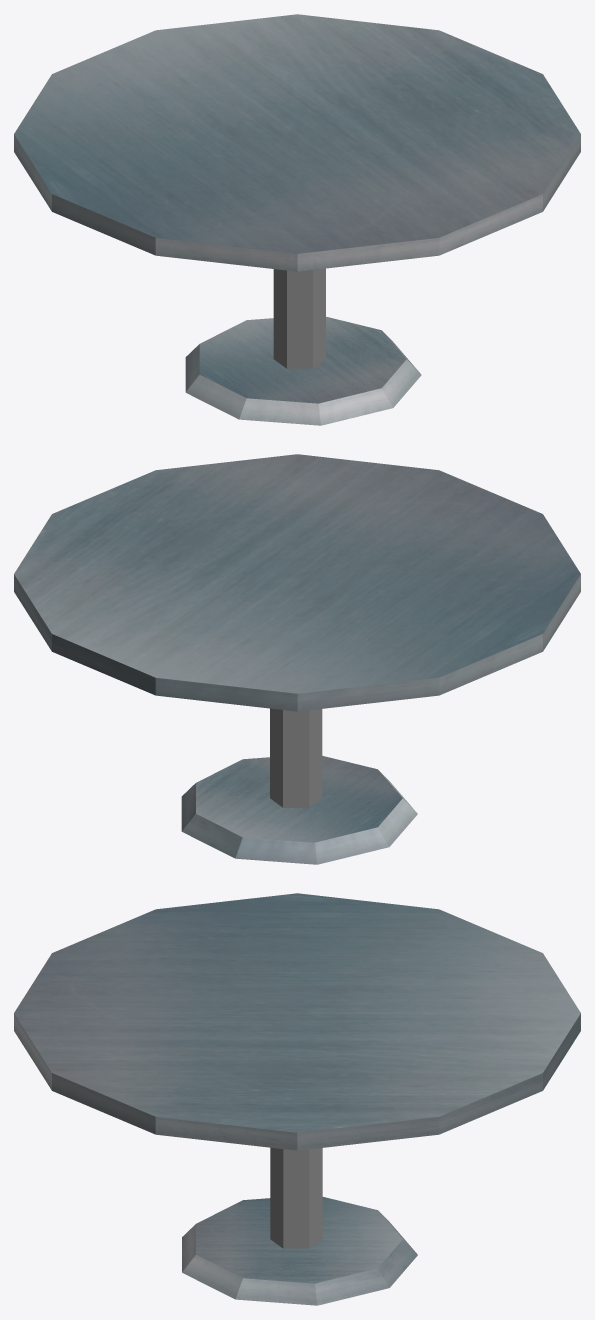
Rendered from TABLE_CAFE_001.fbx.
3 renders of one model, top to bottom at view 1: azimuth 30°, elevation 25°; view 2: azimuth 150°, elevation 25°; view 3: azimuth 270°, elevation 25°, orthographic.
Visible parts, largest first — view 1: TABLE_CAFE.001; view 2: TABLE_CAFE.001; view 3: TABLE_CAFE.001.
Part boxes in pixels (x1,y1,x2,y2): TABLE_CAFE.001: (14,14,580,425); TABLE_CAFE.001: (14,454,580,864); TABLE_CAFE.001: (14,893,580,1305).
Bounding box in the file's own units: 166 × 77.84 × 166.
